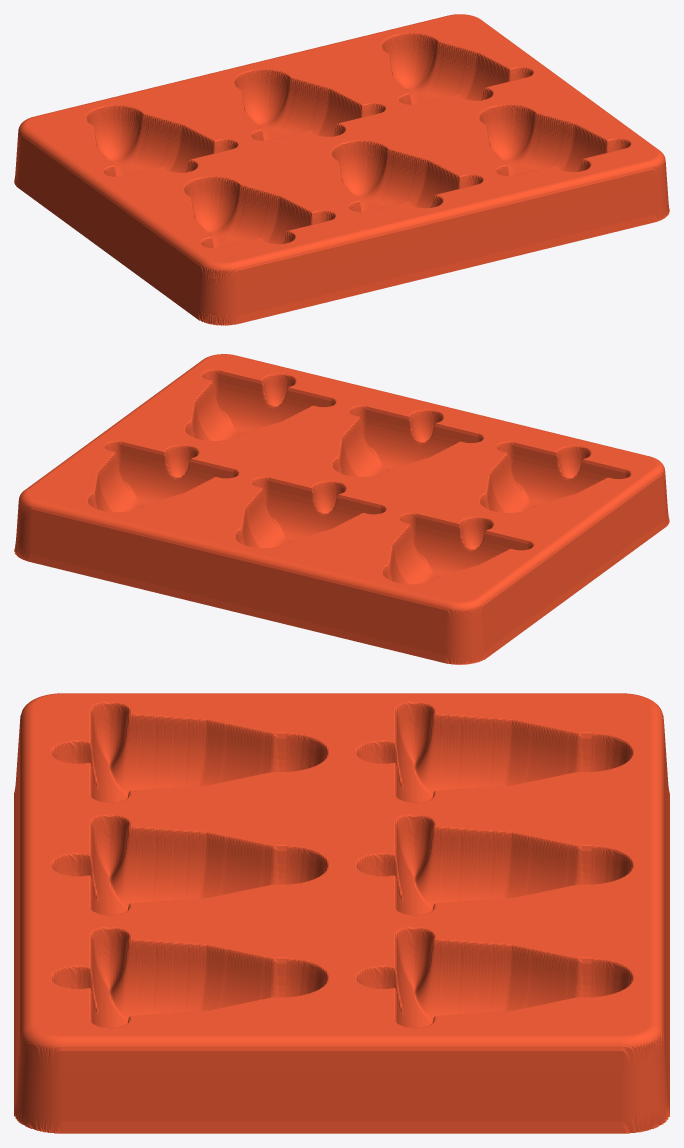
The model's file is mold.glb.
3 views of the same model, one above another, from view 1: azimuth 30°, elevation 25°; view 2: azimuth 150°, elevation 25°; view 3: azimuth 270°, elevation 25° (orthographic). The views are drawn at different scales.
Visible parts, largest first — view 1: geometry_0; view 2: geometry_0; view 3: geometry_0.
Boxes of the visible parts, left/top/right/bottom form: geometry_0: left=14, top=14, right=669, bottom=325; geometry_0: left=14, top=354, right=669, bottom=664; geometry_0: left=14, top=693, right=669, bottom=1133.
Size of the model in its own units: 0.1576 by 0.0185 by 0.1222.
